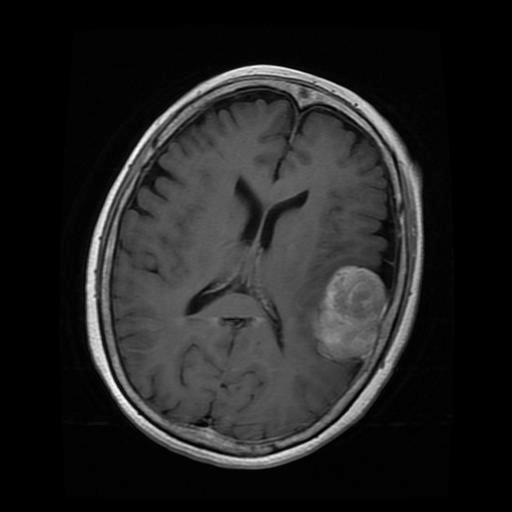Tumour-Meningioma: (309, 256, 392, 372)
